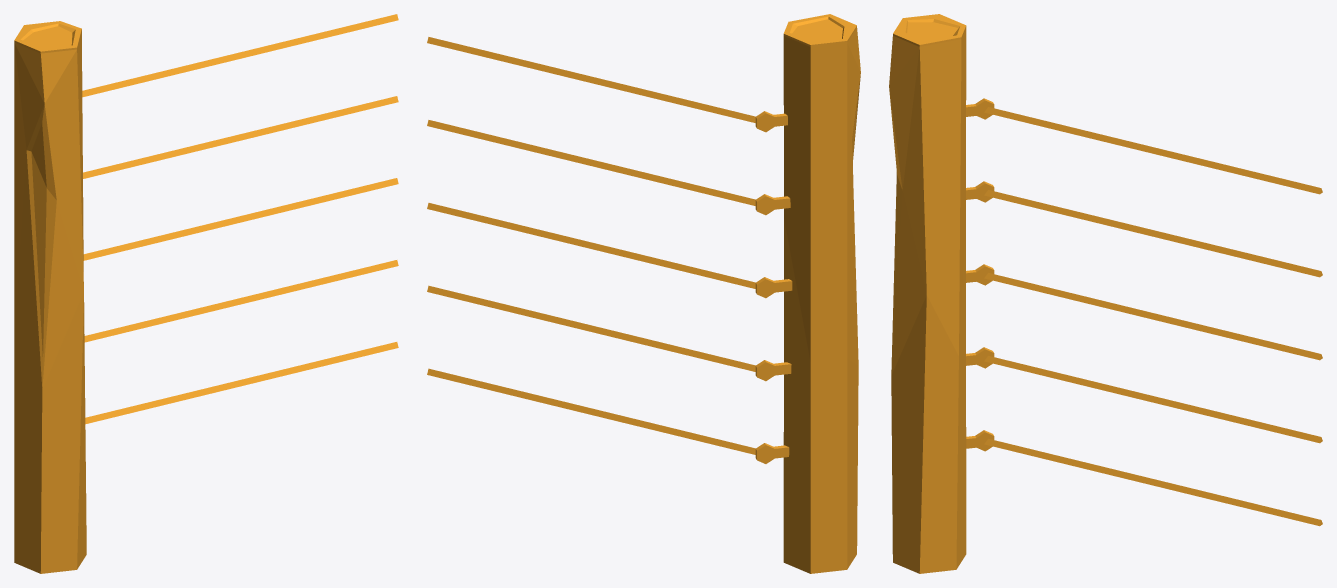
File: SM_Fence_Electric_1m_B.fbx
3 views of the same model, side by side, from view 1: azimuth 30°, elevation 25°; view 2: azimuth 150°, elevation 25°; view 3: azimuth 330°, elevation 25° (orthographic).
Parts seen in each view (by area): view 1: fence-electric-1m-b; view 2: fence-electric-1m-b; view 3: fence-electric-1m-b.
Boxes of the visible parts, x1,y1,x2,y2 form: fence-electric-1m-b: [14, 14, 398, 573]; fence-electric-1m-b: [427, 14, 860, 573]; fence-electric-1m-b: [889, 14, 1322, 573].
Size of the model in its own units: 1.2 by 1.5 by 0.2204.
